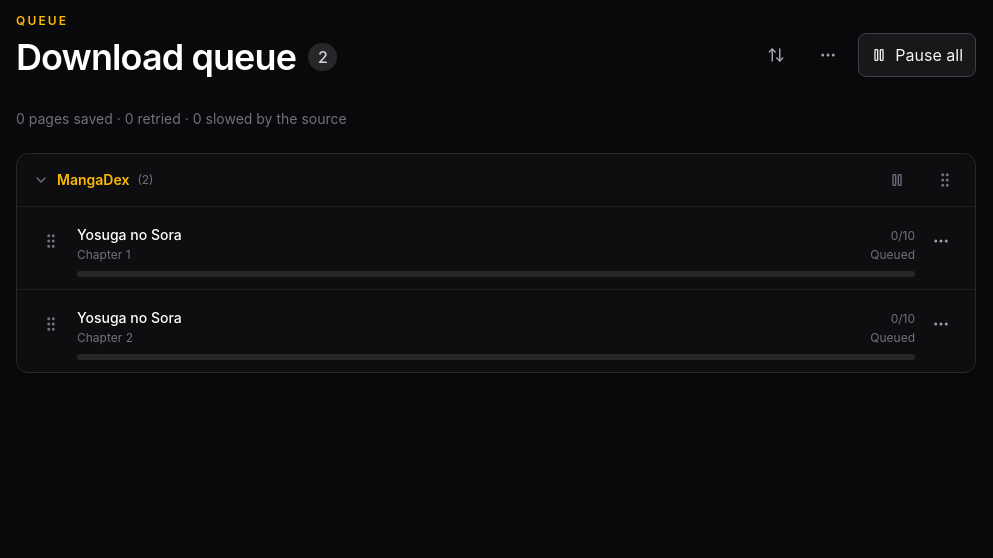
it: DownloadsPage › cancels every queued chapter of the series
expect the text "Chapter 1" is shown: met, box [77,247,130,262]
Click the button named "Actions for Chapter 1 of Yosuga no Sora".
click(941, 241)  # box [919,219,963,263]
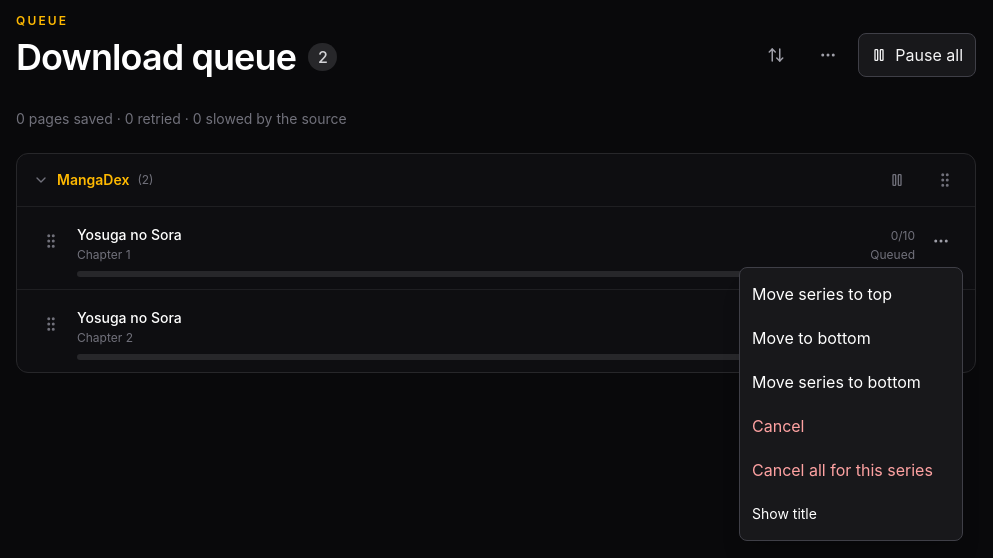
Click the menu item "Cancel all for this series".
click(851, 470)  # box [744,448,958,492]
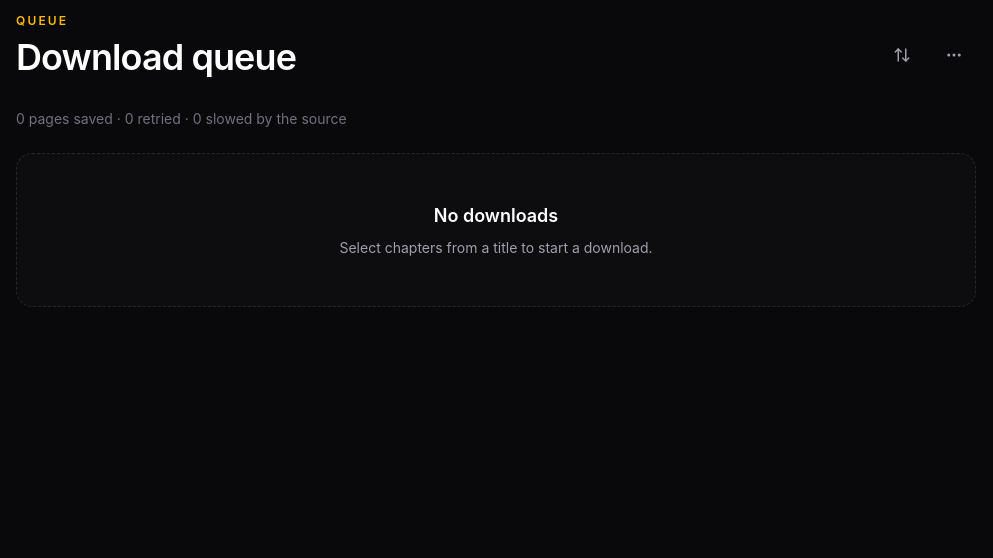
expect the heading "No downloads" is shown: met, box [434,202,558,230]
